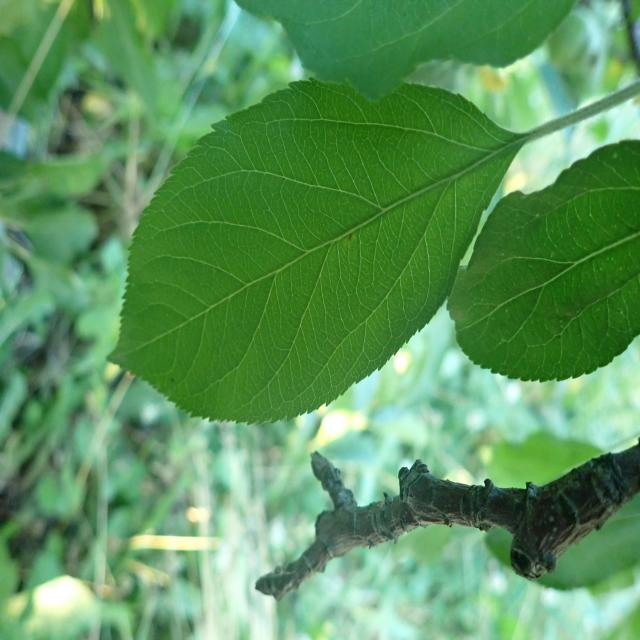healthy: (104, 76, 526, 425), (446, 140, 640, 384), (230, 0, 578, 101)
